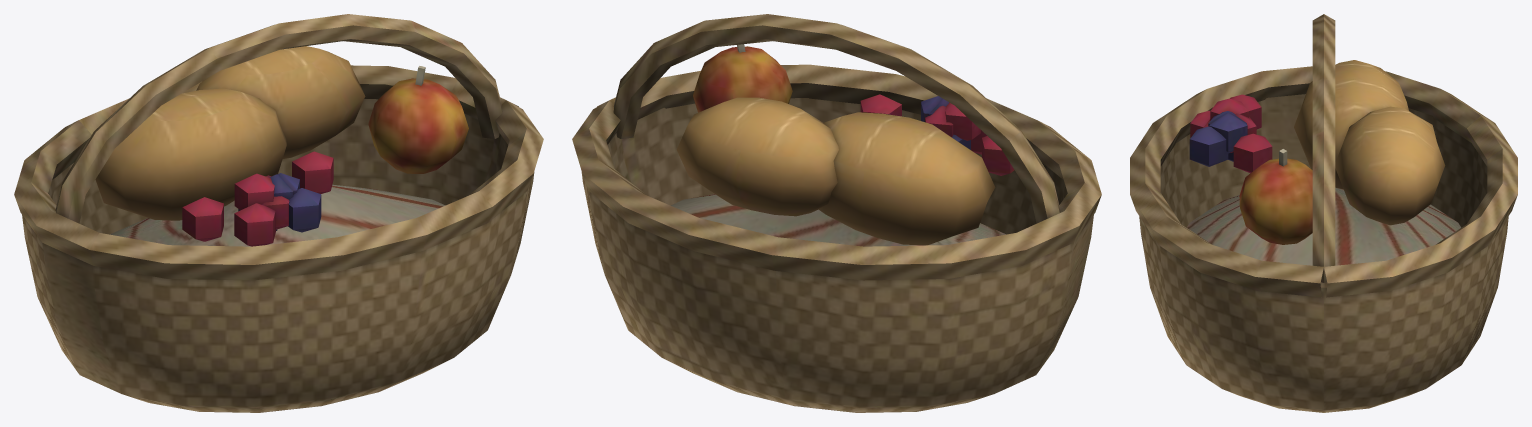
Rendered from fm_food_basket_forage.glb.
3 renders of one model, left to right at view 1: azimuth 30°, elevation 25°; view 2: azimuth 150°, elevation 25°; view 3: azimuth 270°, elevation 25°, orthographic. The views are drawn at different scales.
Parts seen in each view (by area): view 1: fm_food_basket_forage; view 2: fm_food_basket_forage; view 3: fm_food_basket_forage.
Part boxes in pixels (bbox=[...]): fm_food_basket_forage: bbox=[14, 14, 543, 412]; fm_food_basket_forage: bbox=[572, 14, 1101, 412]; fm_food_basket_forage: bbox=[1130, 14, 1517, 412].
Size of the model in its own units: 0.498 by 0.318 by 0.3804.
Materials: 2 (2 with a texture image).
